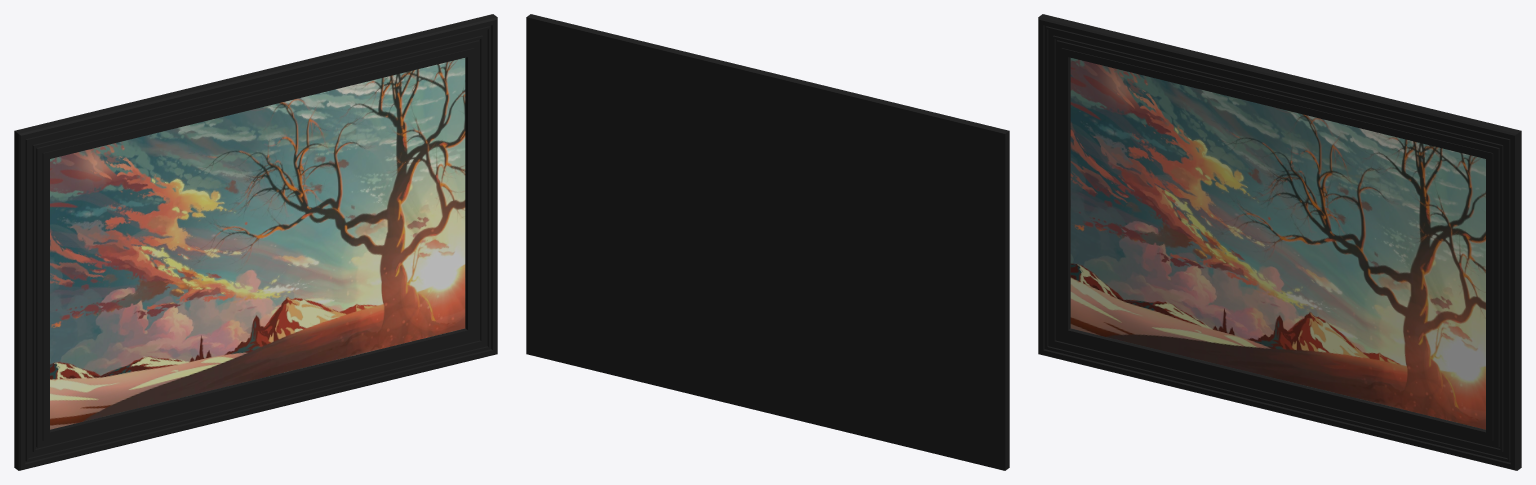
3 views of the same model, side by side, from view 1: azimuth 30°, elevation 25°; view 2: azimuth 150°, elevation 25°; view 3: azimuth 330°, elevation 25° (orthographic).
Parts seen in each view (by area): view 1: group_1, group_2 (×9); view 2: group_1, group_2; view 3: group_1, group_2 (×9).
Boxes of the visible parts, x1,y1,x2,y2 form: group_1: [50, 58, 465, 429]; group_2 (×9): [14, 14, 497, 470]; group_1: [557, 56, 974, 431]; group_2: [526, 14, 1009, 470]; group_1: [1070, 58, 1485, 429]; group_2 (×9): [1038, 14, 1521, 470].
Bounding box in the file's own units: 59.18 × 1.12 × 39.81.
